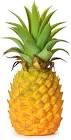Pineapple: (3, 1, 67, 136)
